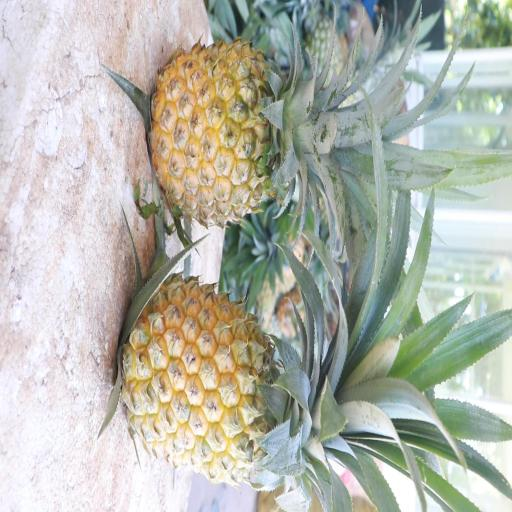Pineapple - v8 v1: (118, 274, 372, 488), (145, 37, 350, 236)
